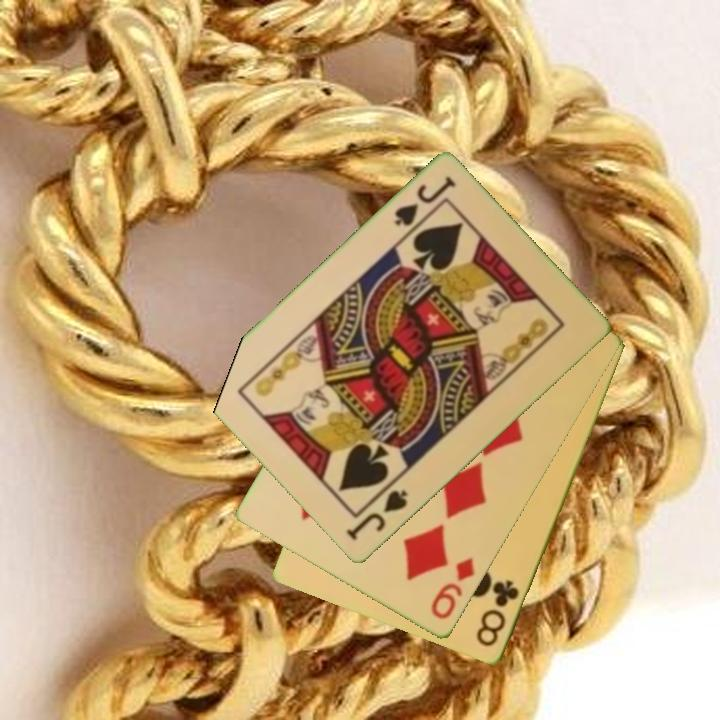8c: (473, 577, 522, 650)
9d: (427, 554, 478, 623)
Js: (342, 486, 411, 544), (391, 173, 459, 230)
